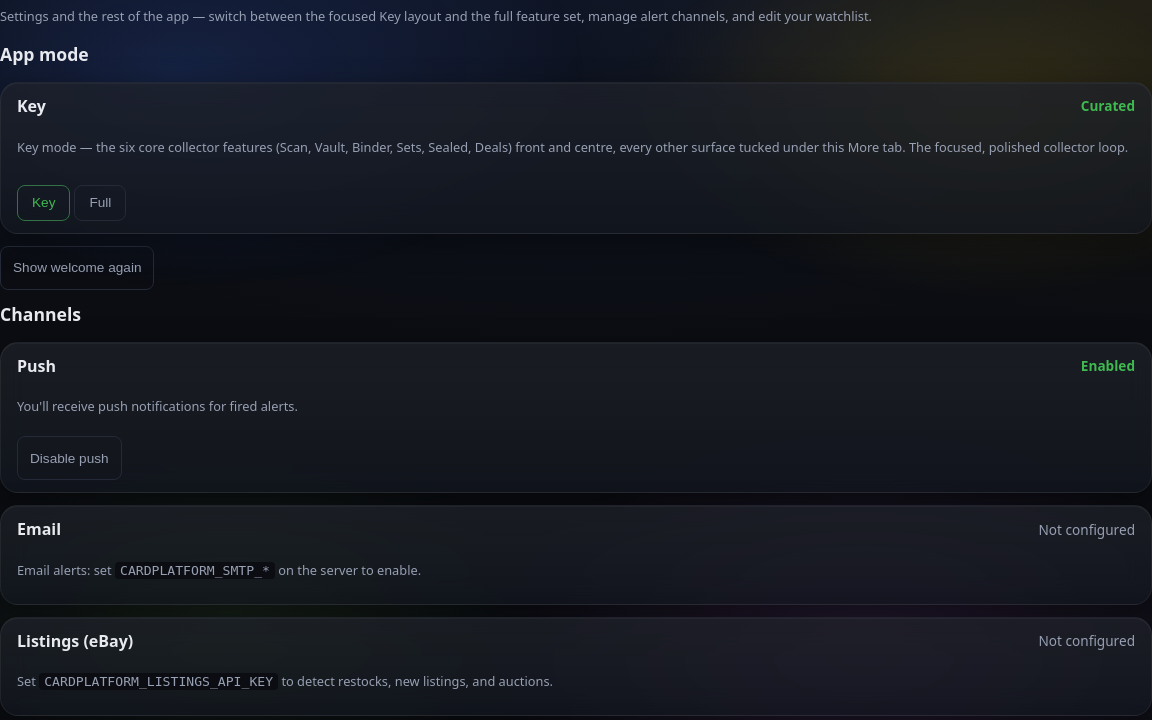
Test: More - push can be turned off › reports honestly when the browser refuses to unsubscribe
Click the button "Disable push".
click(69, 458)  # box 17,436 -> 122,480
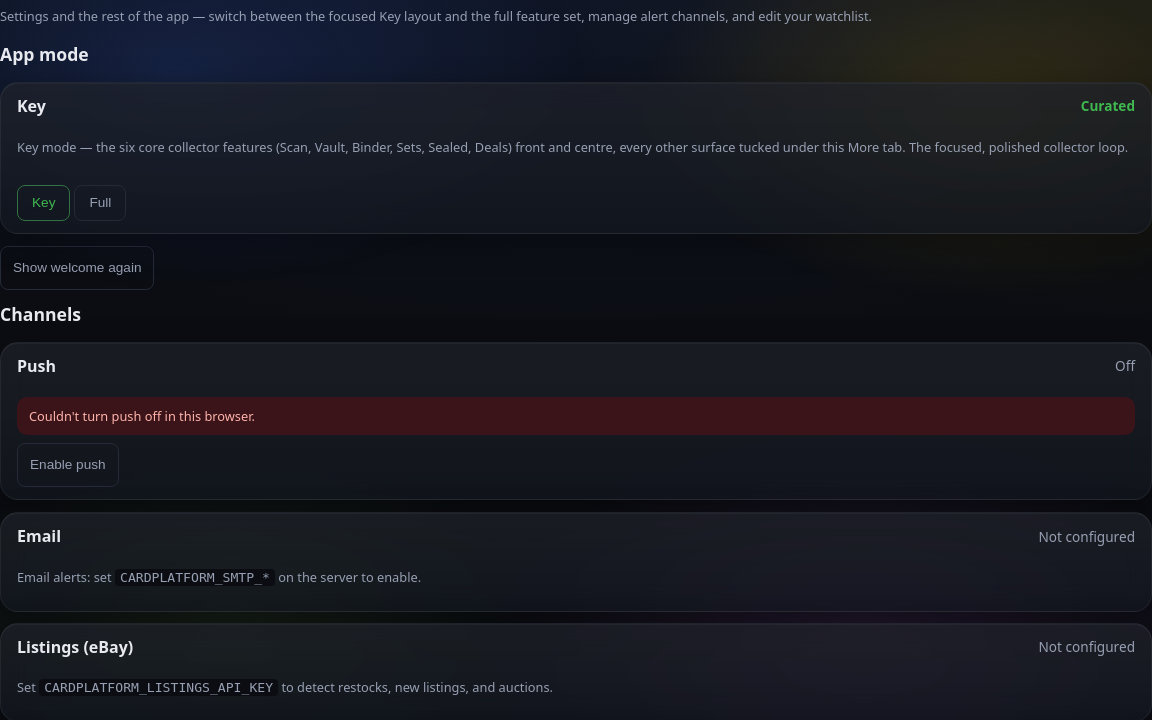
Expected: the text "Couldn't turn push off" is shown, 29,406 -> 255,424
